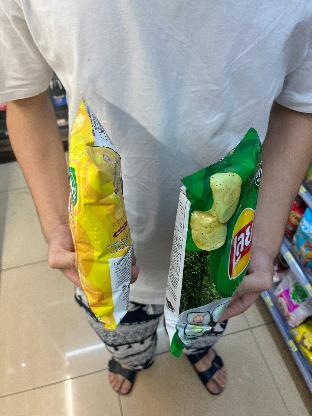Plastic Packaging: (158, 125, 282, 354), (61, 96, 141, 332)
